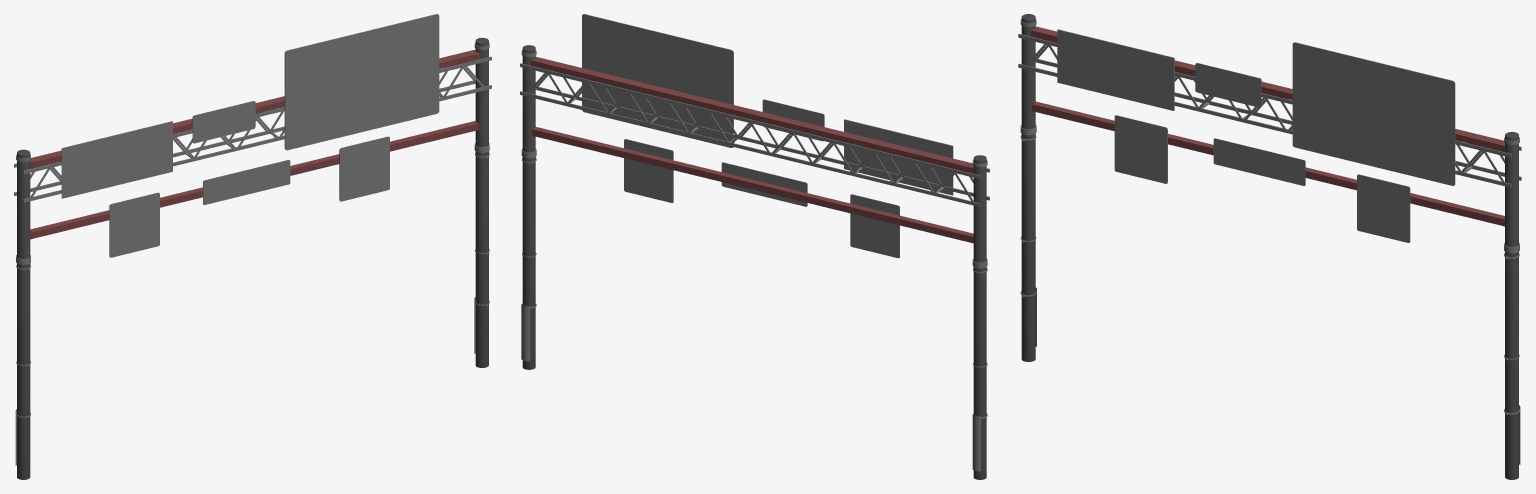
The model's file is SM_highway_signs_preset_01.fbx.
The picture shows the model from 3 angles, left to right: view 1: azimuth 30°, elevation 25°; view 2: azimuth 150°, elevation 25°; view 3: azimuth 330°, elevation 25°; orthographic projection. The views are drawn at different scales.
Visible parts, largest first — view 1: Cylinder199; view 2: Cylinder199; view 3: Cylinder199.
Boxes of the visible parts, x1,y1,x2,y2 form: Cylinder199: (14, 14, 491, 479); Cylinder199: (520, 14, 989, 479); Cylinder199: (1018, 14, 1521, 479).
Bounding box in the file's own units: 435 × 323 × 16.54.
